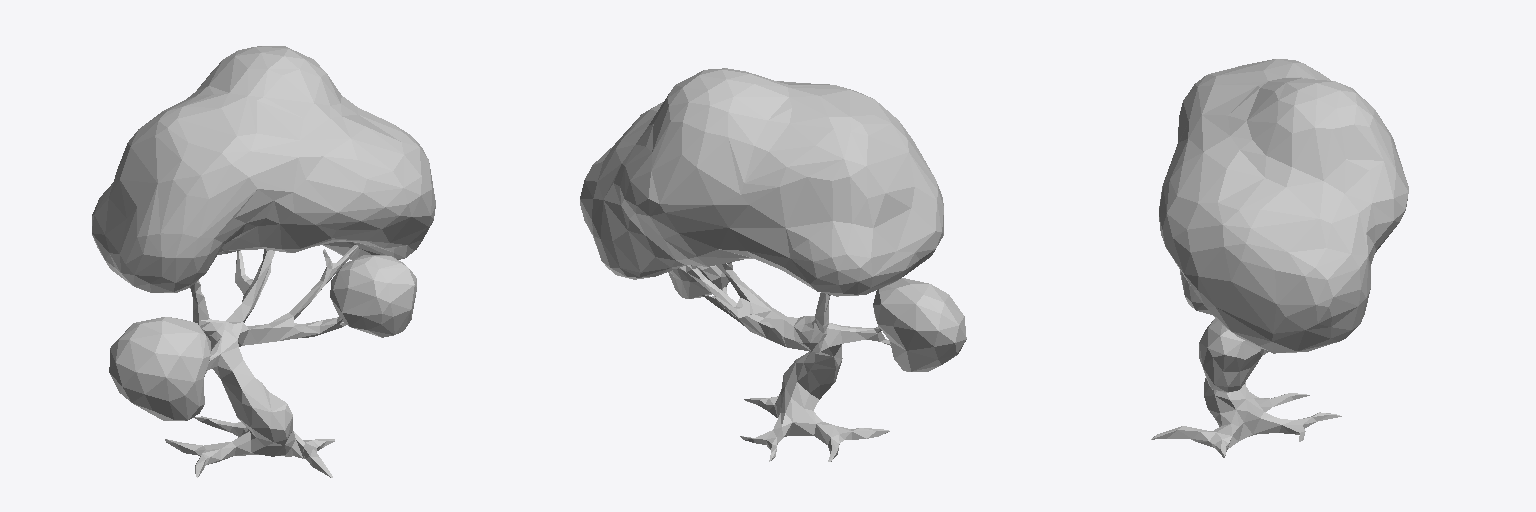
Rendered from tree_lvl_3.obj.
3 views of the same model, side by side, from view 1: azimuth 30°, elevation 25°; view 2: azimuth 150°, elevation 25°; view 3: azimuth 270°, elevation 25° (orthographic).
Parts seen in each view (by area): view 1: Tree5_2_Cube.013; view 2: Tree5_2_Cube.013; view 3: Tree5_2_Cube.013.
Part boxes in pixels (bbox=[...]): Tree5_2_Cube.013: bbox=[92, 46, 435, 477]; Tree5_2_Cube.013: bbox=[580, 68, 966, 461]; Tree5_2_Cube.013: bbox=[1151, 59, 1408, 457].
Size of the model in its own units: 18.41 by 19.43 by 12.37.